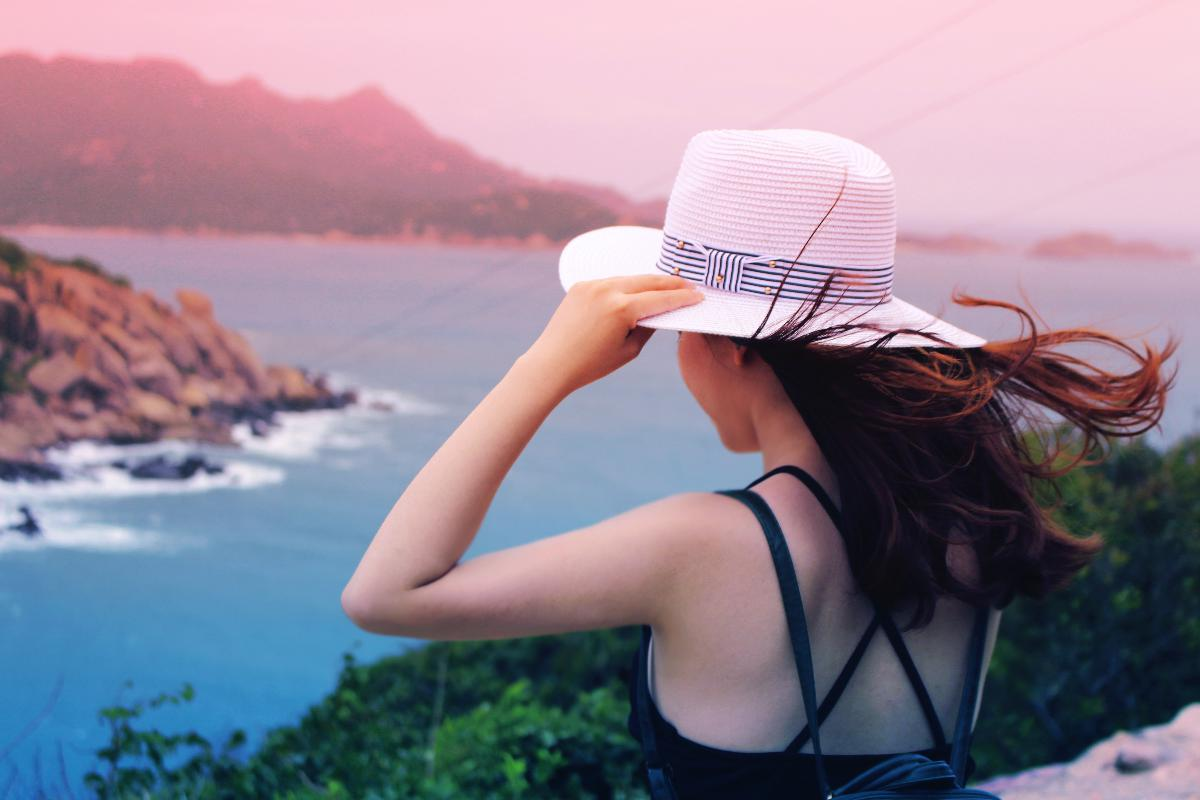Person: (341, 126, 1023, 800)
